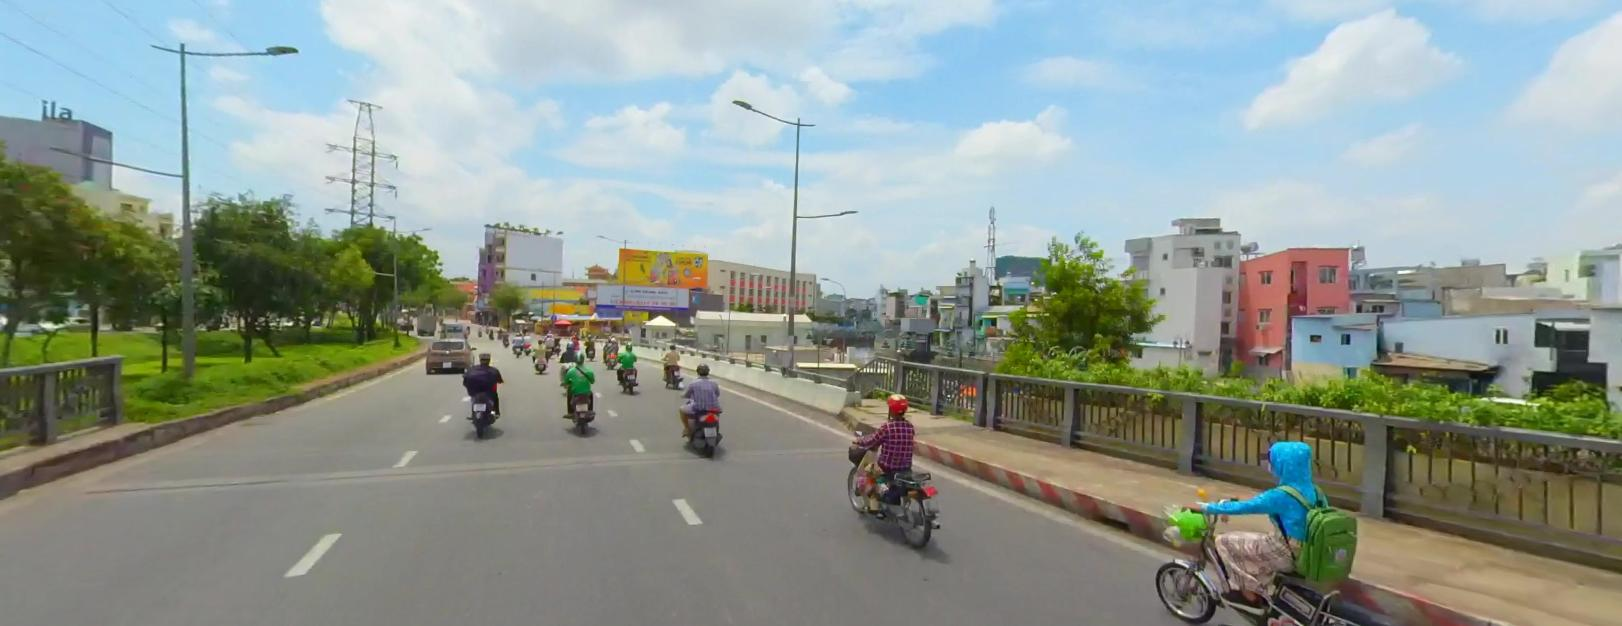Hieu lenh: (549, 312, 557, 319)
